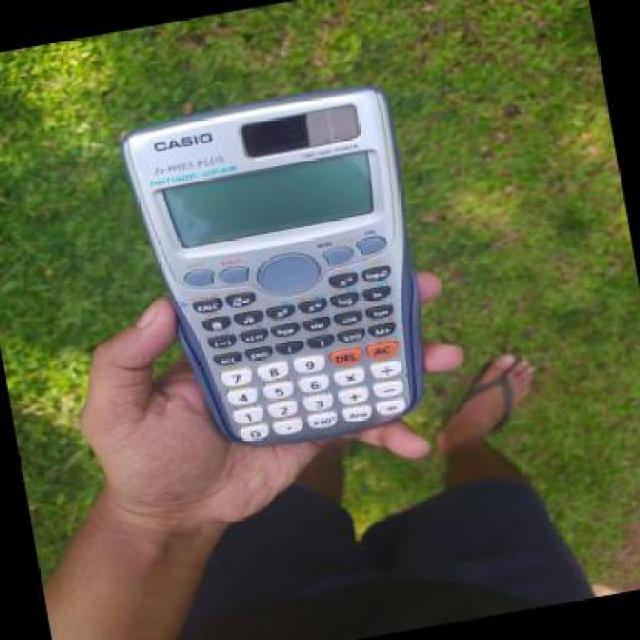Calculator: (119, 71, 459, 472)
